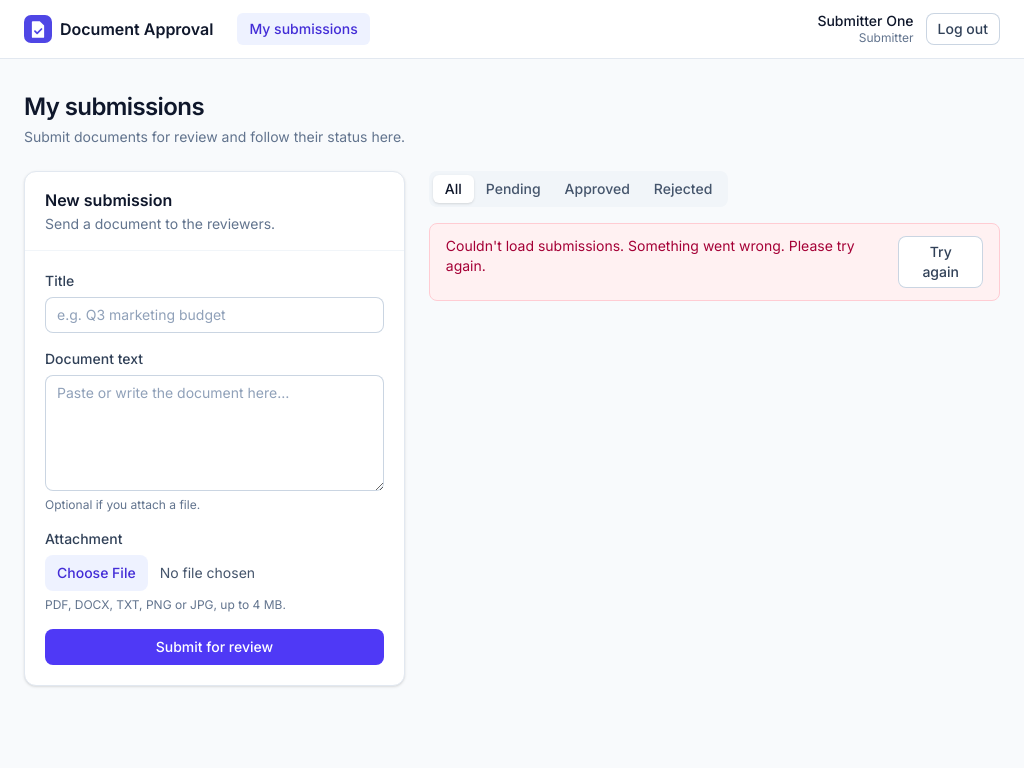
Test: MySubmissionsPage – tracking status › shows an error with a working 'Try again' button
Expected: the text "Couldn't load submissions" is shown, x1=446 y1=236 x2=628 y2=254
Click the button "Try again": (941, 262) x1=898 y1=236 x2=983 y2=288
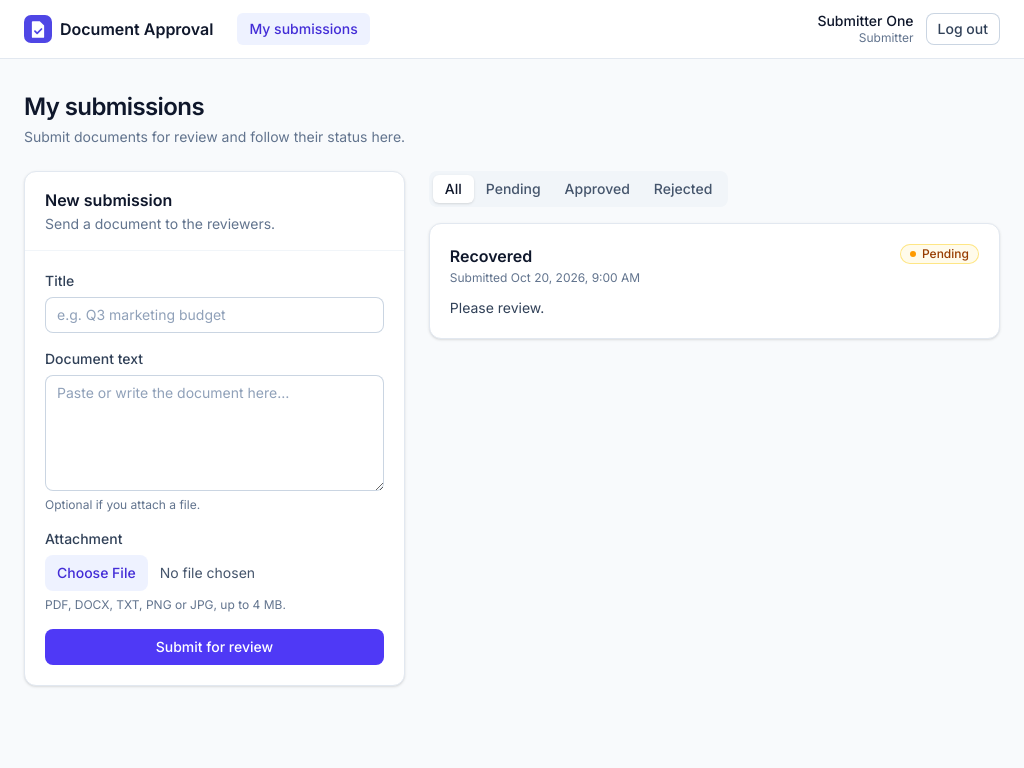
Result: the heading "Recovered" is shown at x1=450 y1=246 x2=532 y2=266
